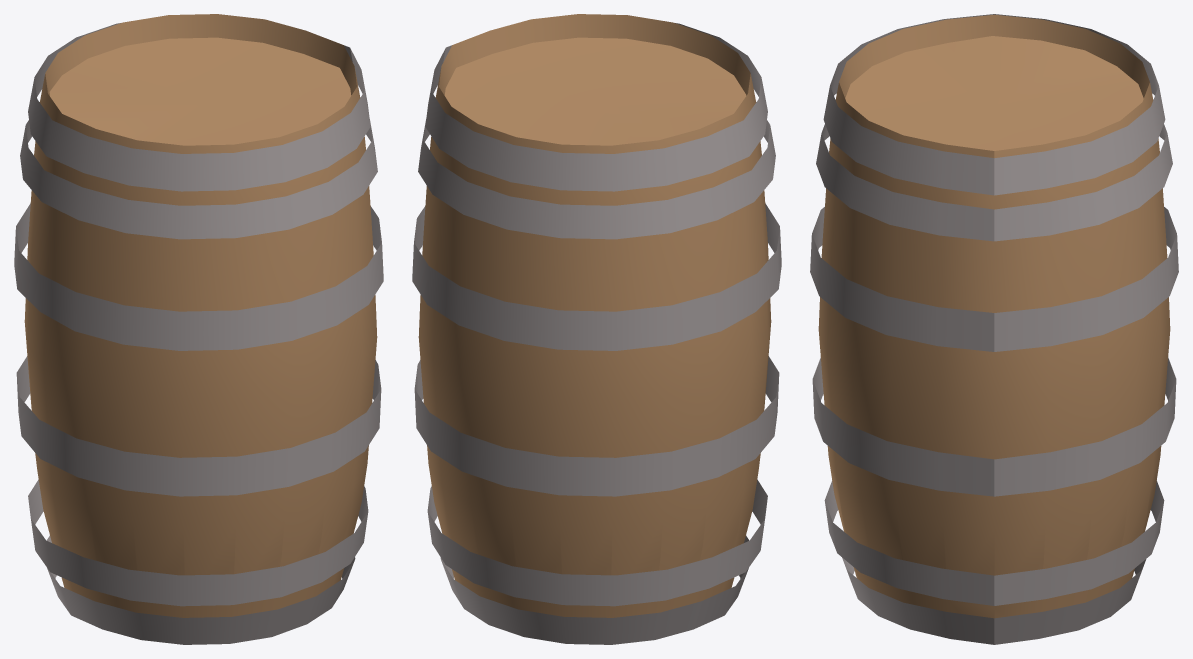
Rendered from 1_5x barrel combined.fbx.
3 renders of one model, left to right at view 1: azimuth 30°, elevation 25°; view 2: azimuth 150°, elevation 25°; view 3: azimuth 270°, elevation 25°, orthographic.
Visible parts, largest first — view 1: pCylinder10; view 2: pCylinder10; view 3: pCylinder10.
Boxes of the visible parts, box(x1,y1,x2,y2) form: pCylinder10: box(14, 14, 383, 644); pCylinder10: box(412, 14, 781, 644); pCylinder10: box(810, 14, 1178, 644).
Size of the model in its own units: 99.23 by 147 by 97.94.
